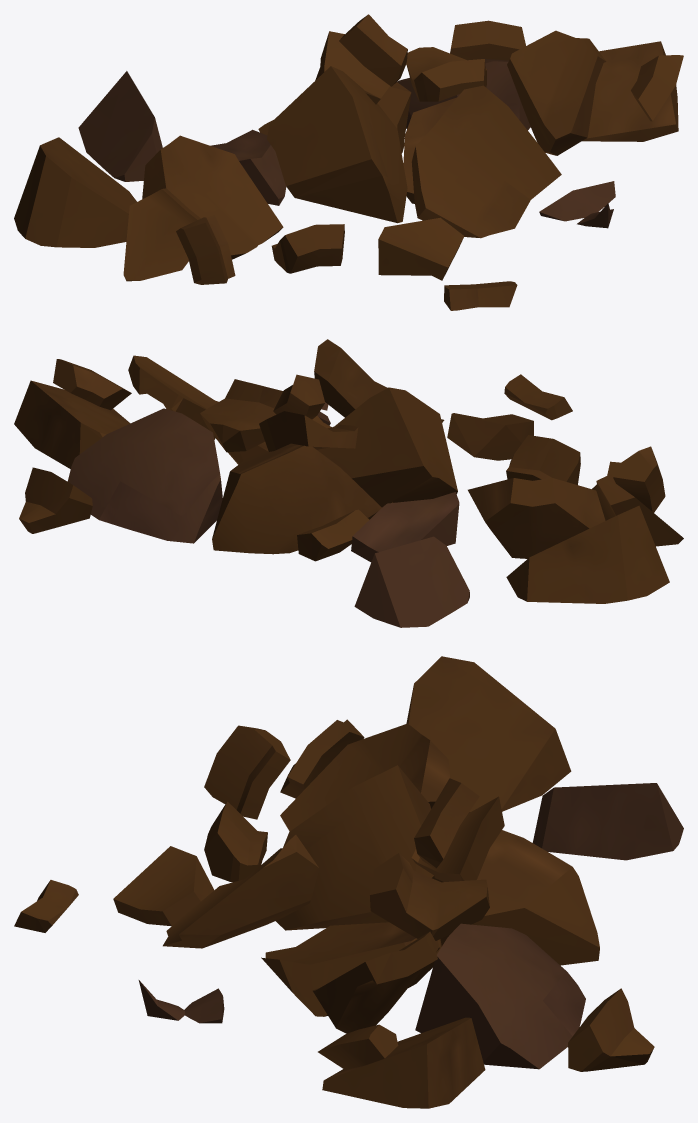
The model's file is rubble_vase.glb.
3 renders of one model, top to bottom at view 1: azimuth 30°, elevation 25°; view 2: azimuth 150°, elevation 25°; view 3: azimuth 270°, elevation 25°, orthographic. The views are drawn at different scales.
Visible parts, largest first — view 1: Vase_Rubble_Medium; view 2: Vase_Rubble_Medium; view 3: Vase_Rubble_Medium.
Boxes of the visible parts, x1=… form: Vase_Rubble_Medium: x1=14, y1=14, x2=683, y2=310; Vase_Rubble_Medium: x1=14, y1=339, x2=683, y2=627; Vase_Rubble_Medium: x1=14, y1=656, x2=683, y2=1108.
Size of the model in its own units: 0.7969 by 0.1746 by 0.5985.
1 material, 1 textured.
